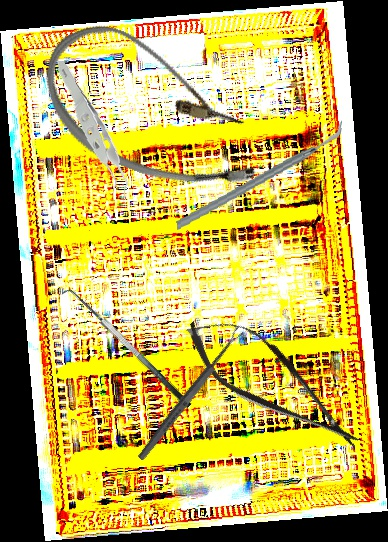Cannula: (23, 10, 287, 212)
Chopper: (167, 119, 352, 232)
Micro Scissor: (172, 296, 376, 470)
Spatula Surgical: (58, 281, 193, 419)
Surgical Spoon: (135, 326, 246, 463)
Tissue Forceps: (43, 60, 139, 206)
